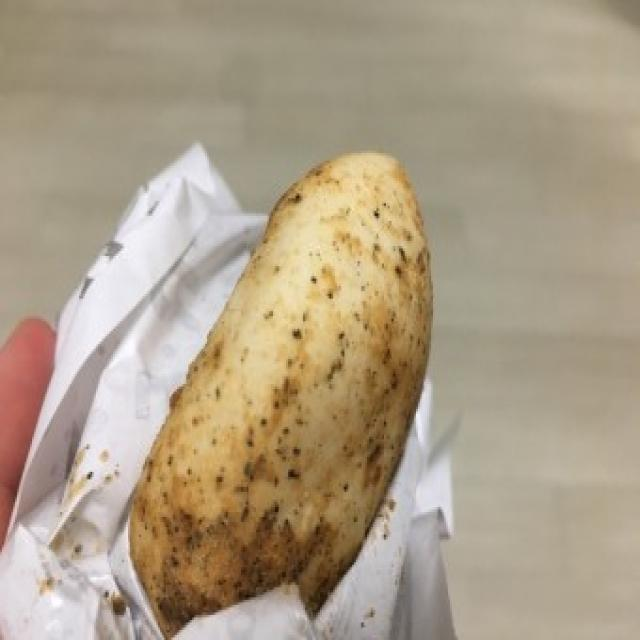potato: (127, 142, 435, 640)
